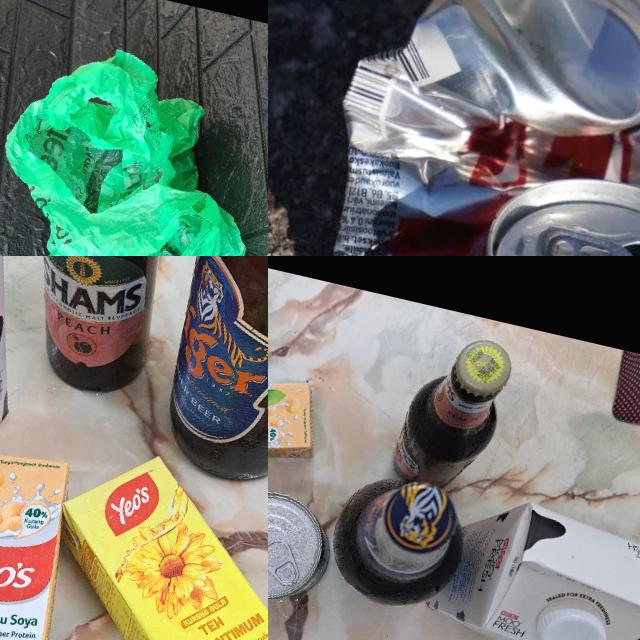aba de lata: (531, 221, 640, 256), (268, 535, 306, 588)
caixinha: (14, 440, 268, 640), (420, 485, 640, 640), (0, 438, 96, 640), (0, 256, 72, 517), (268, 345, 328, 490)
garrafa de vidro: (148, 256, 268, 504), (0, 256, 196, 403), (319, 463, 477, 619), (390, 326, 516, 498)
lata: (291, 0, 640, 256), (268, 480, 341, 610)
sacola plástica: (0, 25, 268, 256)
tampa plástica: (532, 601, 613, 640)
